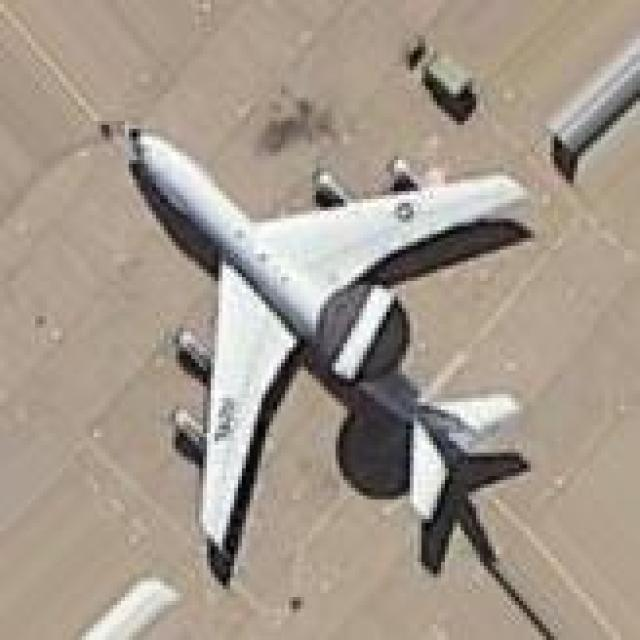E-3_TopDown: (107, 124, 555, 586)
